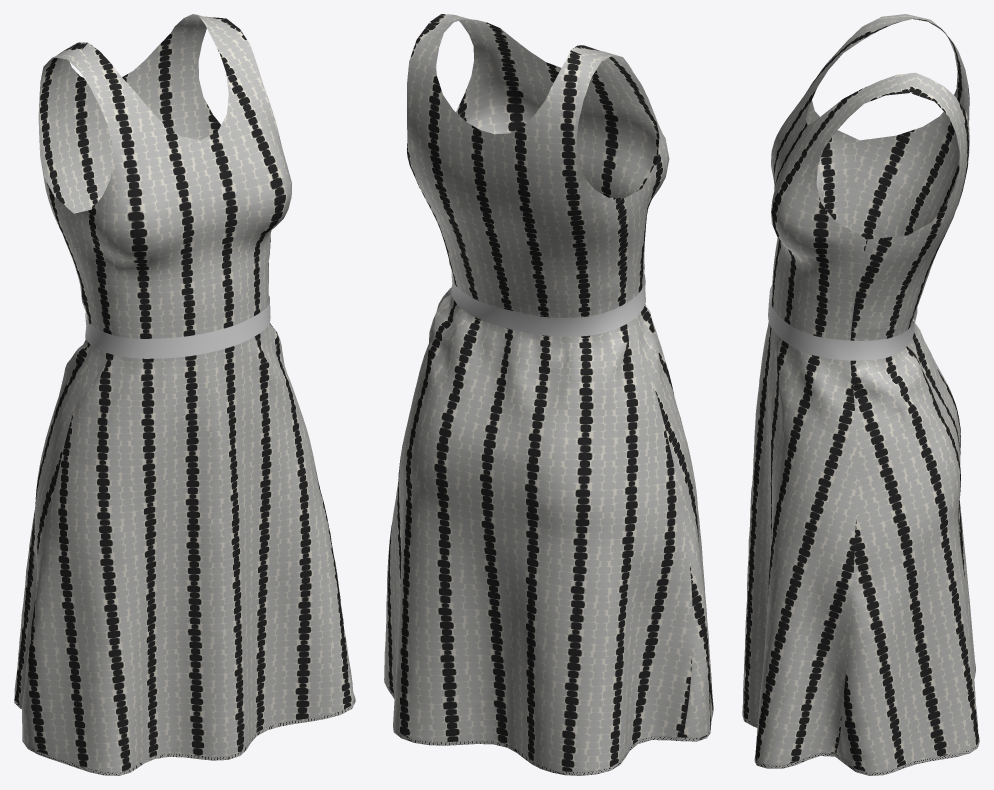
The model's file is womendress.glb.
3 renders of one model, left to right at view 1: azimuth 30°, elevation 25°; view 2: azimuth 150°, elevation 25°; view 3: azimuth 270°, elevation 25°, orthographic. The views are drawn at different scales.
Visible parts, largest first — view 1: WomenNormalDress.001; view 2: WomenNormalDress.001; view 3: WomenNormalDress.001.
Boxes of the visible parts, <box> form: WomenNormalDress.001: <box>14,14,355,775</box>; WomenNormalDress.001: <box>384,14,713,775</box>; WomenNormalDress.001: <box>742,14,979,775</box>.
Size of the model in its own units: 0.2422 by 0.5268 by 0.1689.
2 materials, 1 textured.
